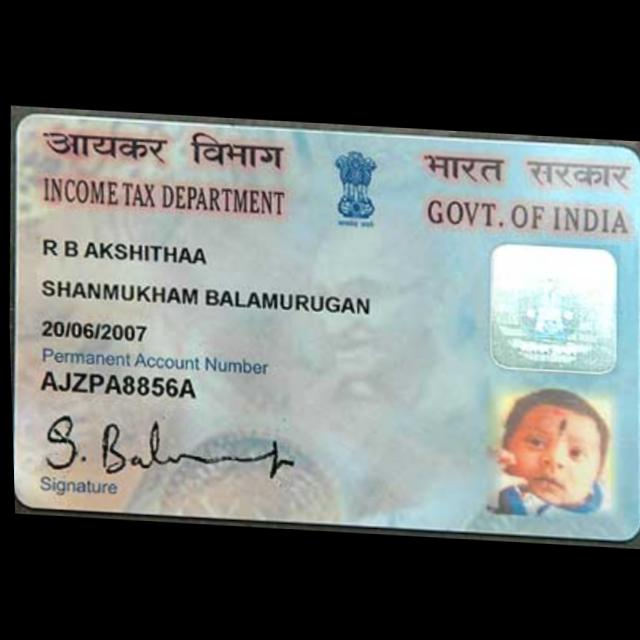pan: (2, 107, 640, 545)
